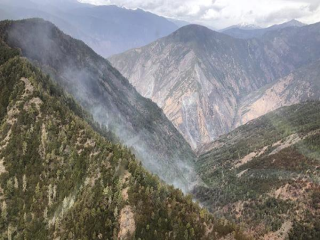smoke: (31, 28, 122, 132), (113, 120, 208, 201)
